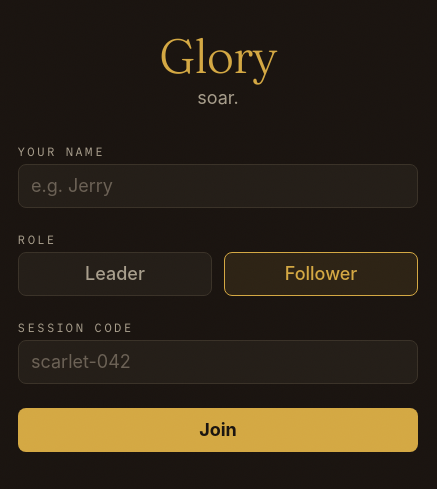
Test: JoinScreen › shows error when submitting with empty session code
The width and height of the screenshot is (437, 489).
Type "Jerry" into the field labelled "Your name". click: (218, 186)
box: [18,164,418,208]
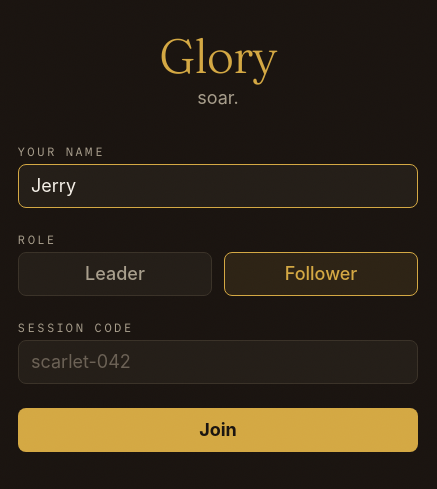
Click the button "Join". click: (218, 430)
box: [18,408,418,452]
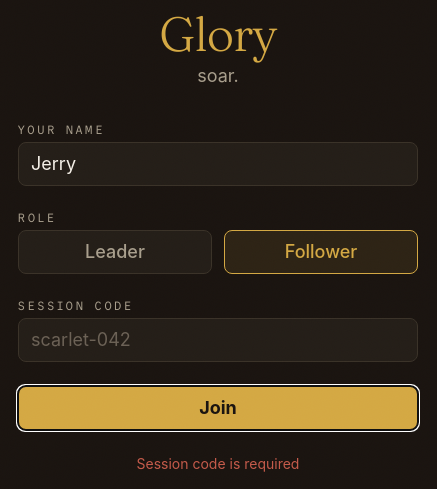
Check: the text "Session code is required" is shown, box [136,455,299,472]
